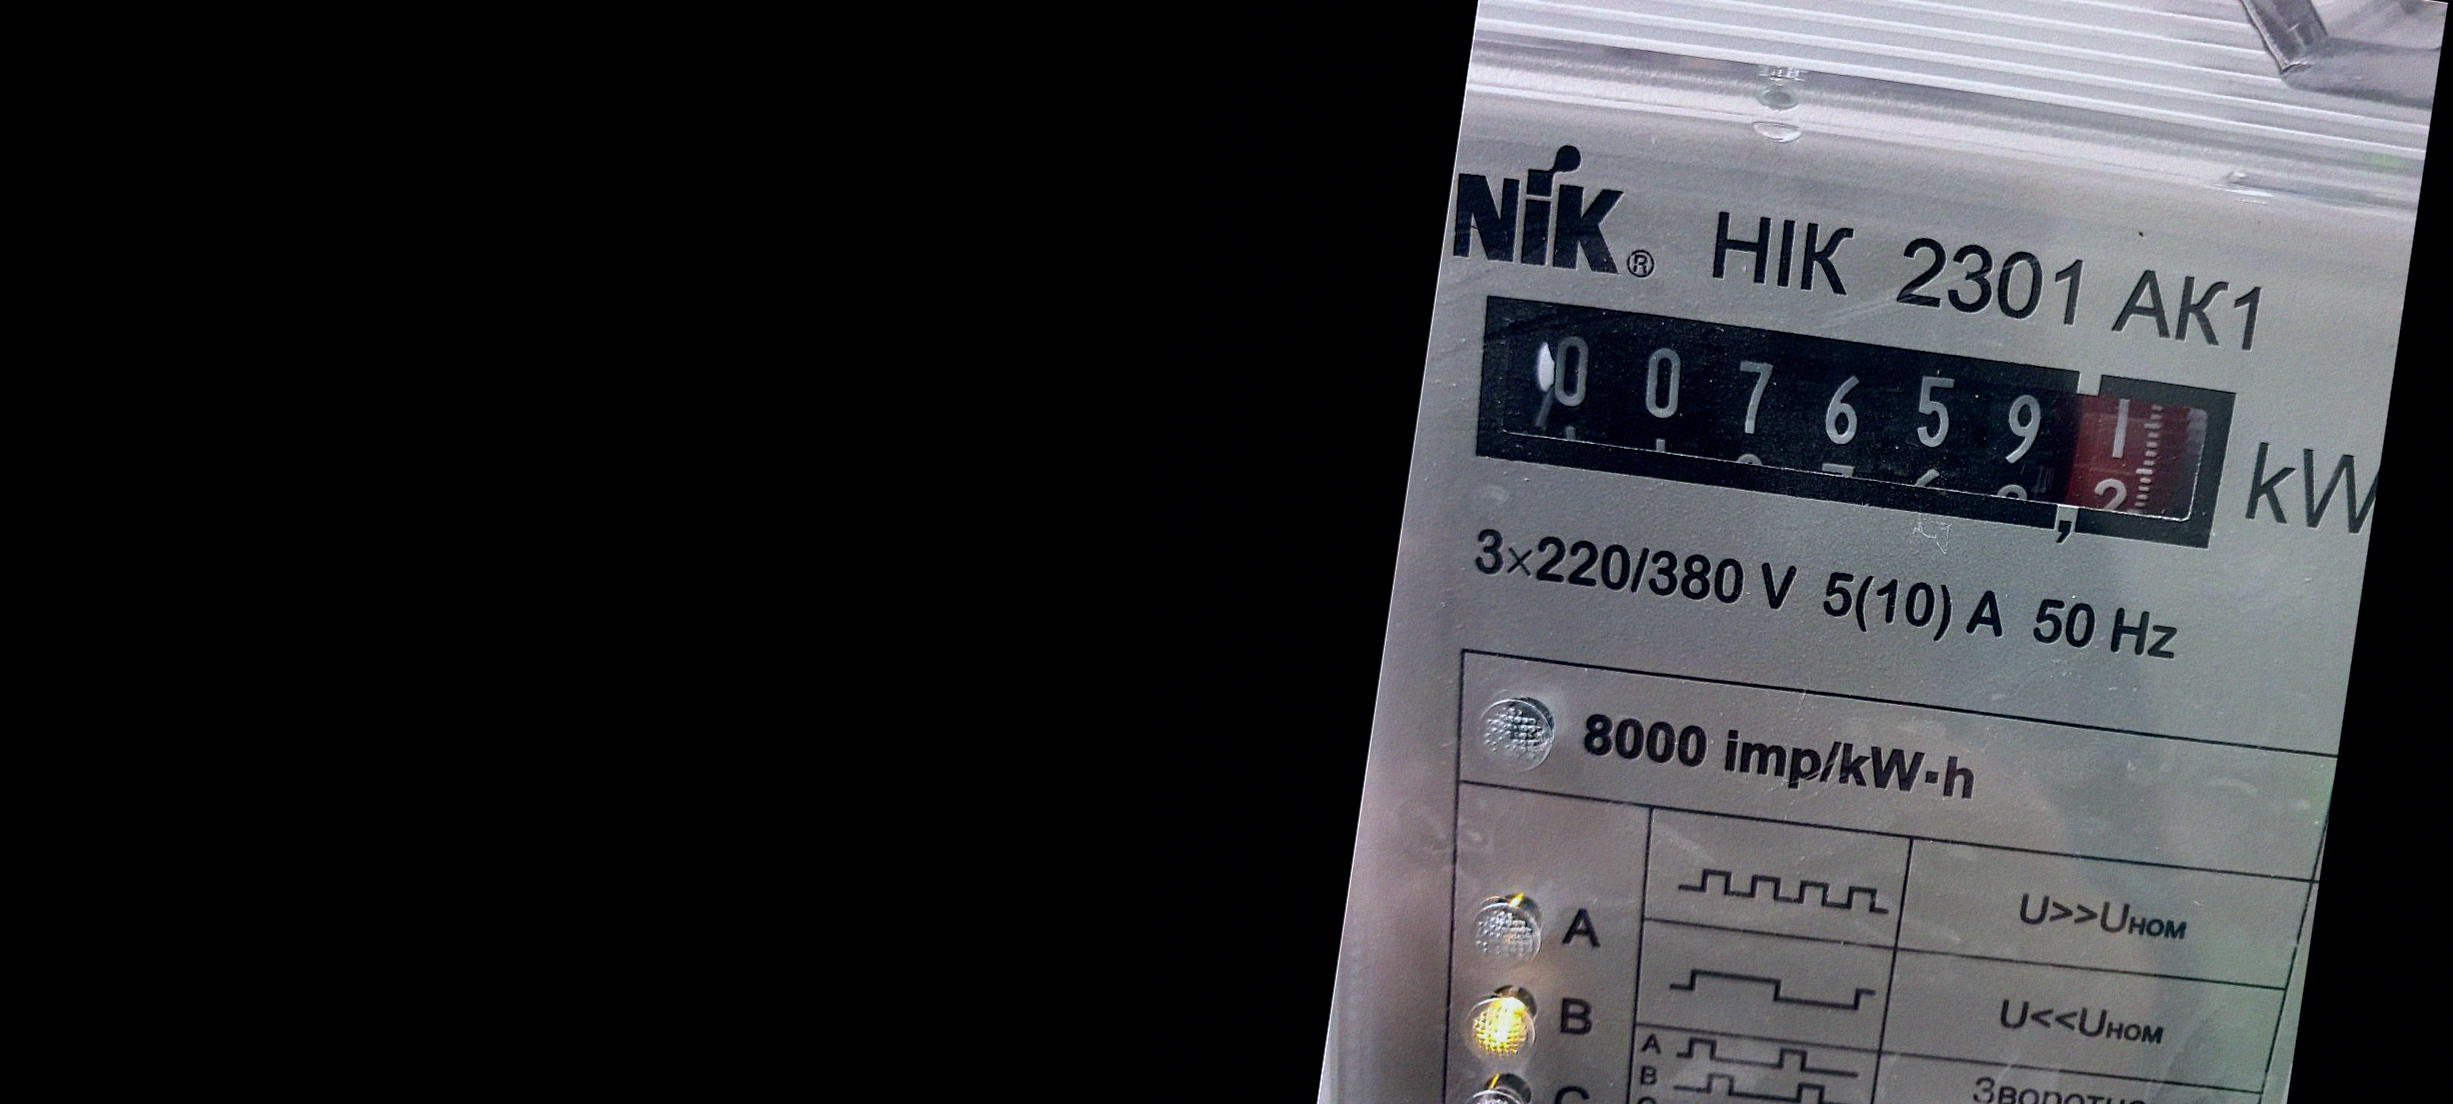0: (1629, 335, 1696, 428), (1541, 324, 1604, 421)
1: (2101, 389, 2145, 469)
5: (1905, 367, 1963, 455)
6: (1812, 363, 1874, 452)
7: (1726, 352, 1779, 443)
9: (1996, 385, 2049, 477)
screen: (1442, 260, 2261, 586)
